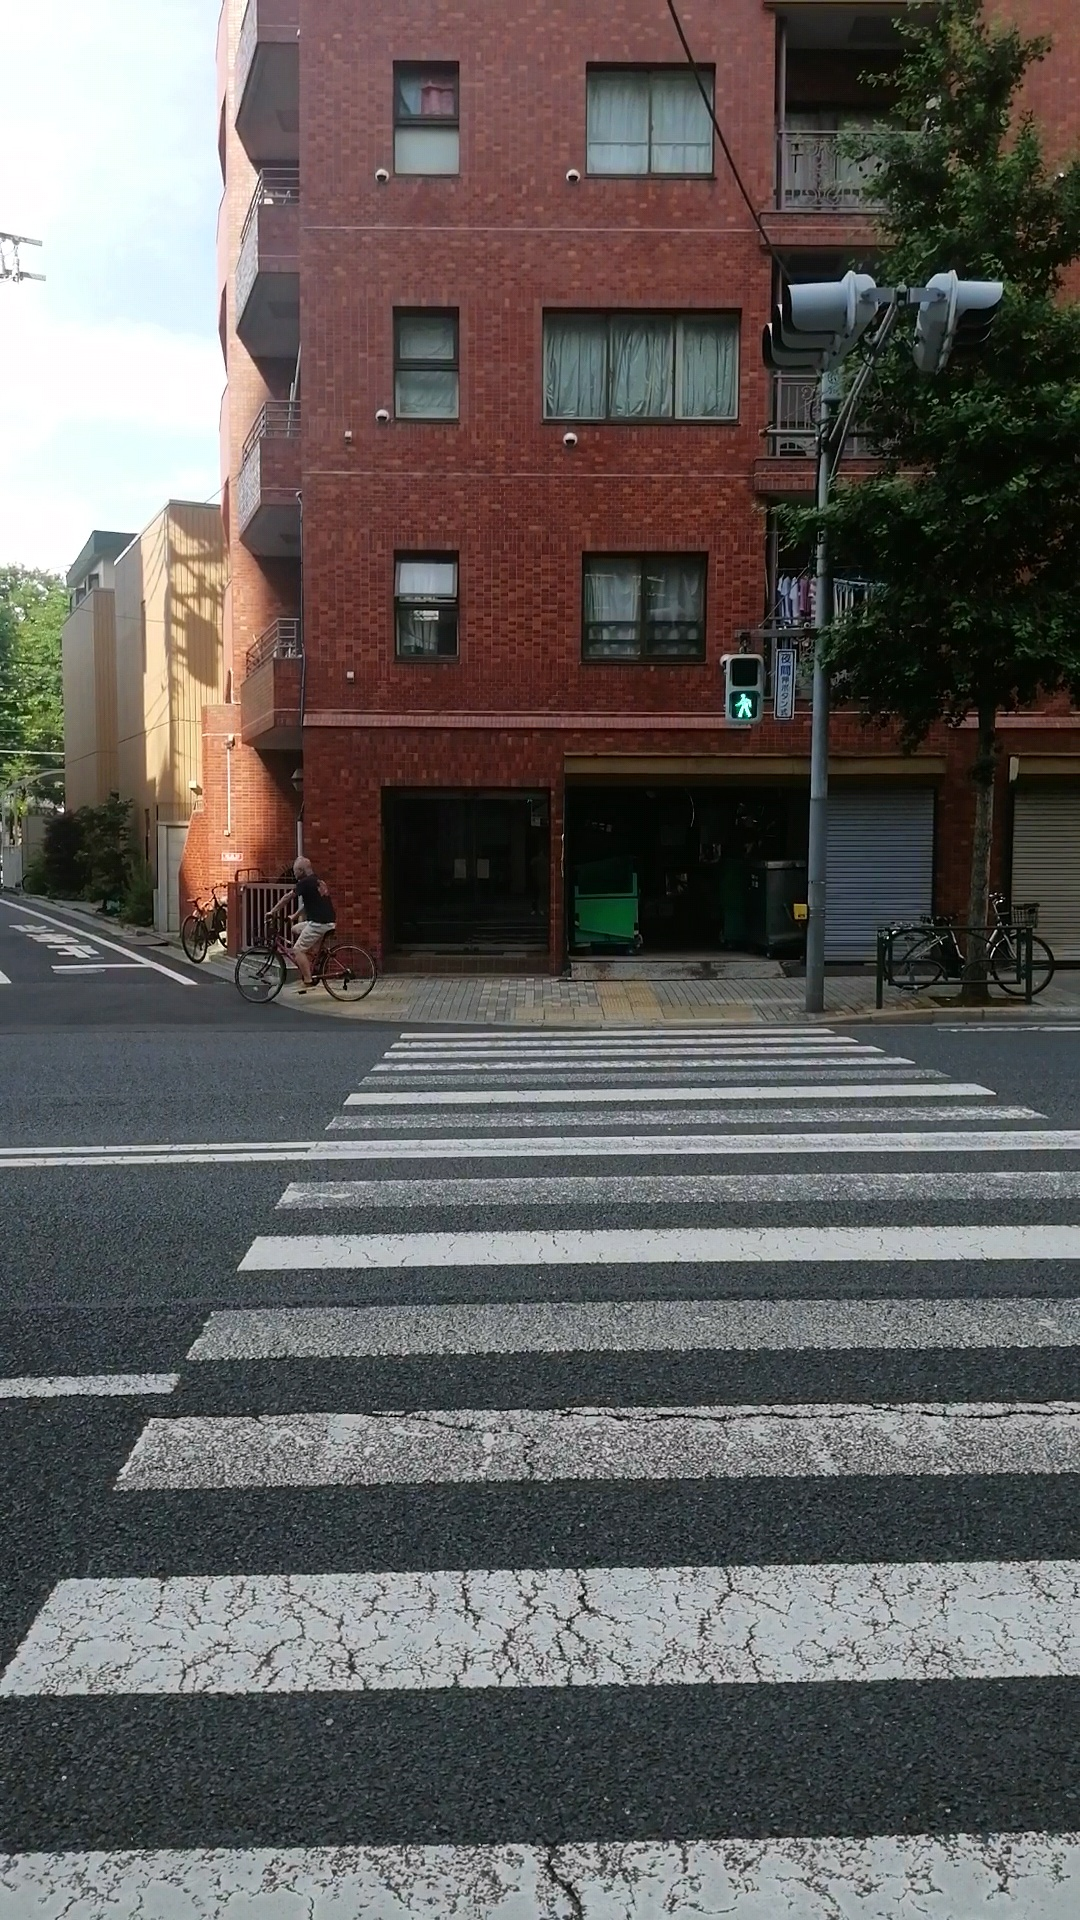green: (725, 653, 764, 724)
